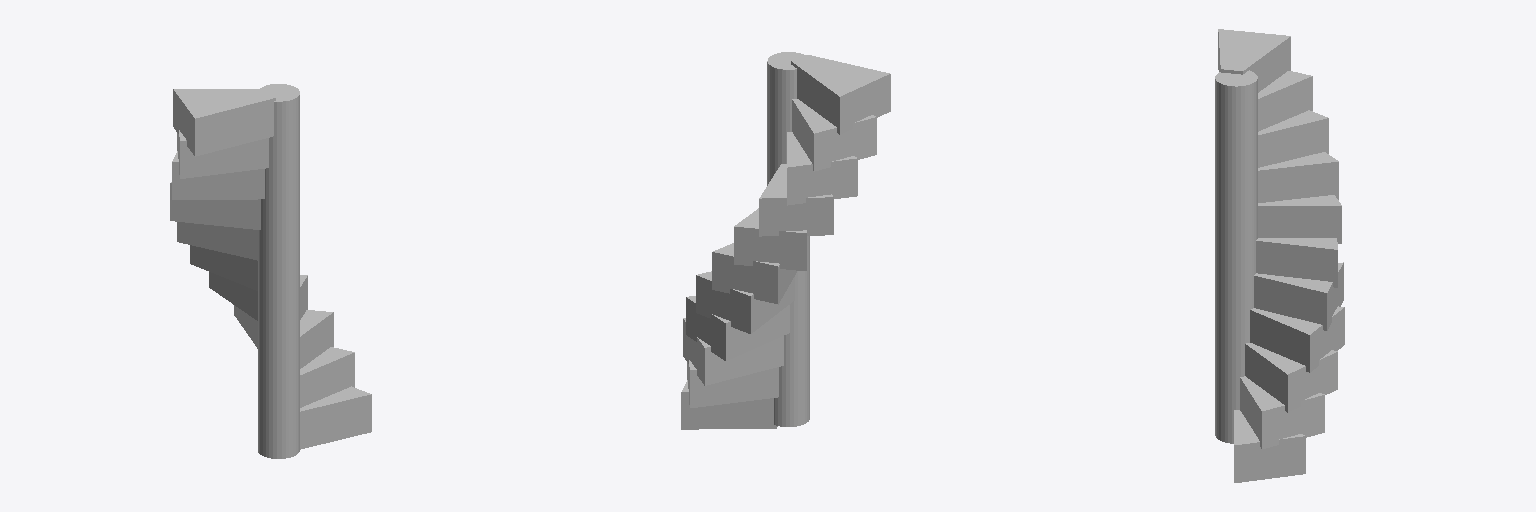
File: stair.obj
3 views of the same model, side by side, from view 1: azimuth 30°, elevation 25°; view 2: azimuth 150°, elevation 25°; view 3: azimuth 270°, elevation 25° (orthographic).
Visible parts, largest first — view 1: Cylinder; view 2: Cylinder; view 3: Cylinder.
Boxes of the visible parts, x1=… form: Cylinder: x1=170, y1=84, x2=371, y2=458; Cylinder: x1=681, y1=52, x2=890, y2=429; Cylinder: x1=1215, y1=29, x2=1344, y2=482.
Bounding box in the file's own units: 1.14 × 2.15 × 0.6926.